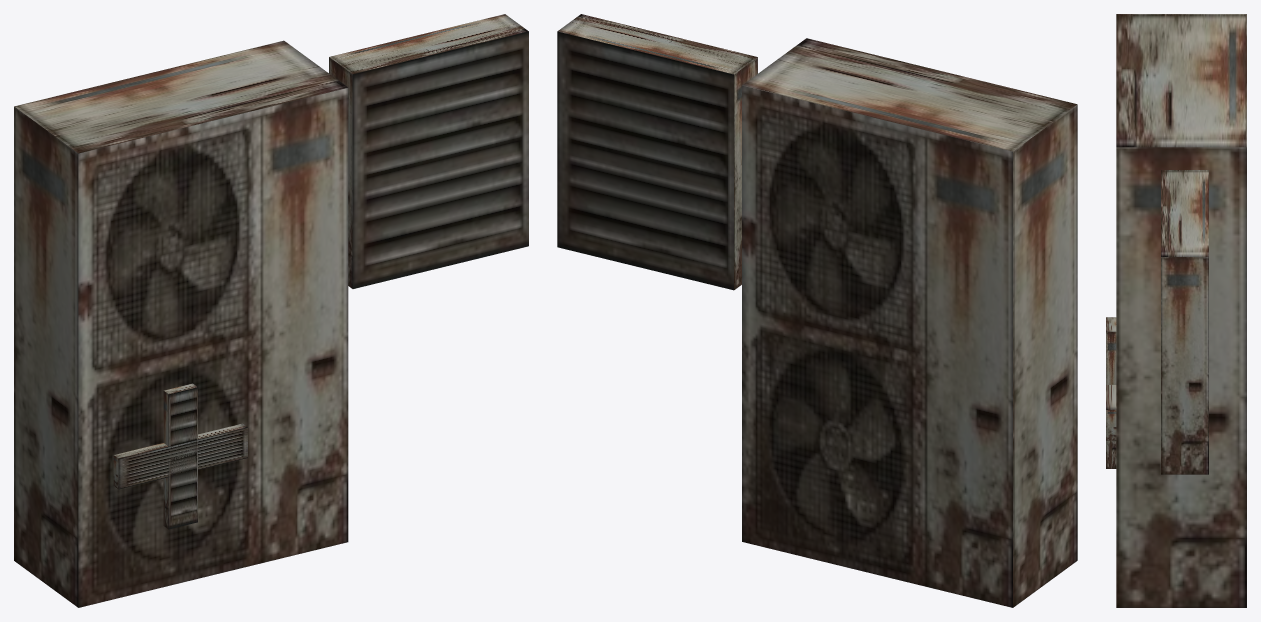
Rendered from sf_weathered_ac_louver.glb.
The picture shows the model from 3 angles, left to right: view 1: azimuth 30°, elevation 25°; view 2: azimuth 150°, elevation 25°; view 3: azimuth 270°, elevation 25°; orthographic projection.
Visible parts, largest first — view 1: WeatheredAcAndBrokenWindow_Root, WeatheredAcAndBrokenWindow_AnimPart; view 2: WeatheredAcAndBrokenWindow_Root; view 3: WeatheredAcAndBrokenWindow_Root, WeatheredAcAndBrokenWindow_AnimPart.
Part boxes in pixels (<box>): WeatheredAcAndBrokenWindow_Root: <box>14,14,528,607</box>; WeatheredAcAndBrokenWindow_AnimPart: <box>113,383,247,529</box>; WeatheredAcAndBrokenWindow_Root: <box>557,14,1077,607</box>; WeatheredAcAndBrokenWindow_Root: <box>1116,14,1246,607</box>; WeatheredAcAndBrokenWindow_AnimPart: <box>1106,317,1116,468</box>.
Size of the model in its own units: 1.61 by 1.48 by 0.41.
1 material, 1 textured.
